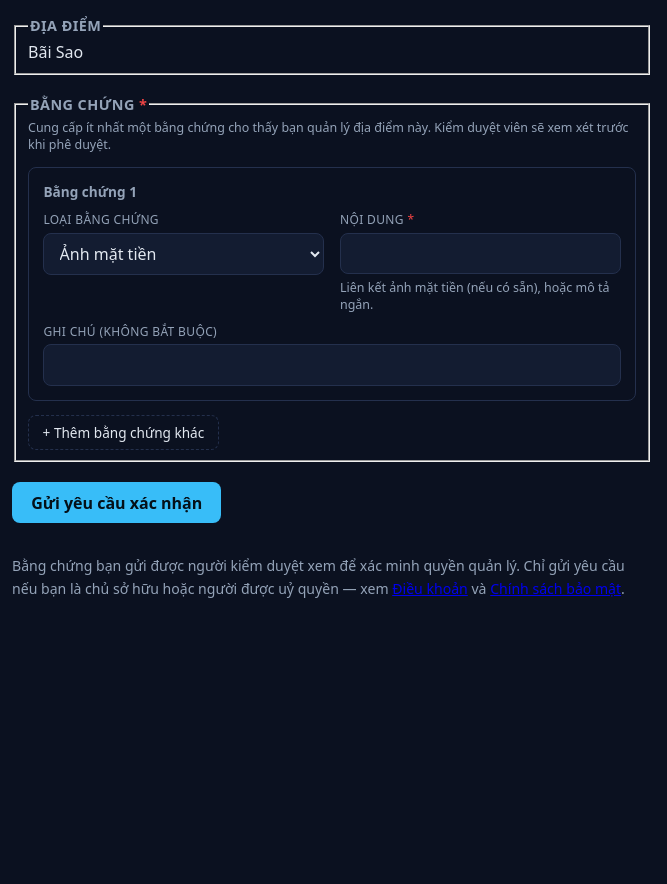
ClaimForm — danh sách bằng chứng động › xoá mục → còn lại đúng số mục, không xoá được khi chỉ còn 1
The image size is (667, 884).
Click the button "+ Thêm bằng chứng khác" at (123, 433), box [28, 415, 219, 450]
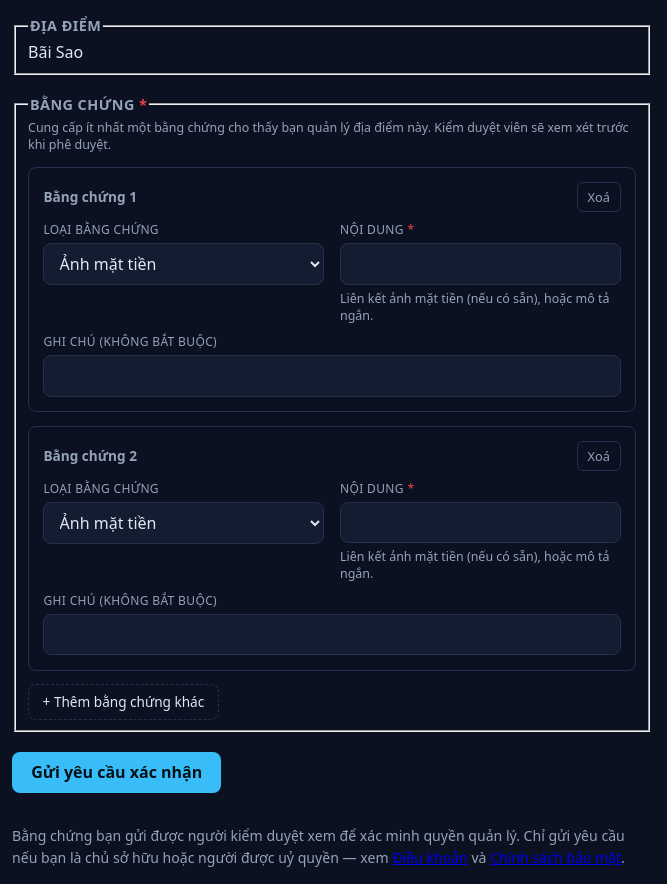
Click the 1st button "Xoá" at (599, 197), box [577, 182, 621, 212]
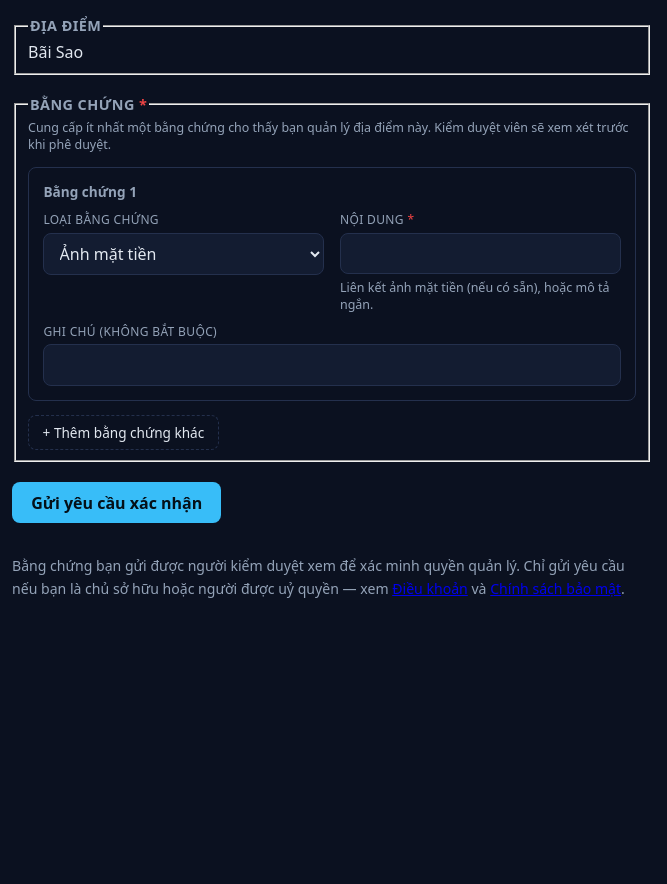
Expected: the text "Bằng chứng 2" is gone
Expected: the button "Xoá" is gone
